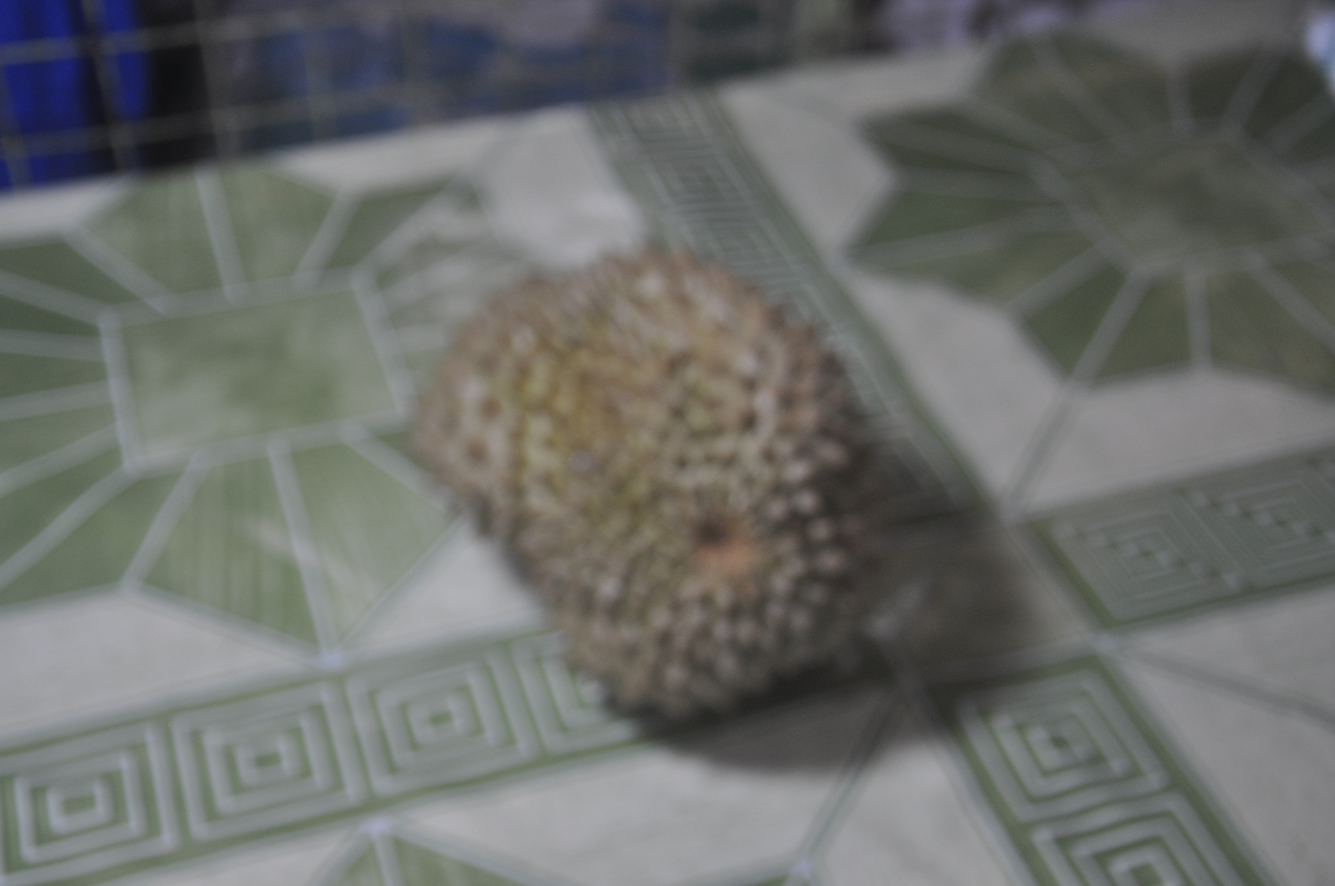mature: (341, 190, 965, 754)
